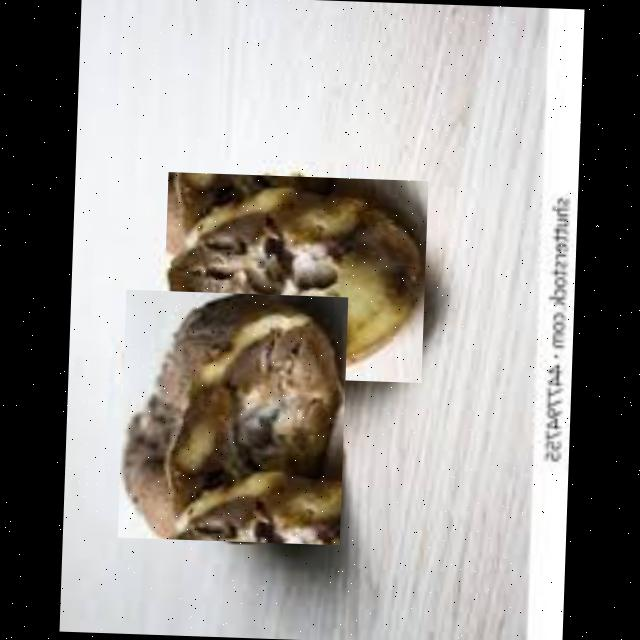Diseased-fungal potato: (116, 289, 347, 545), (160, 172, 427, 382)
